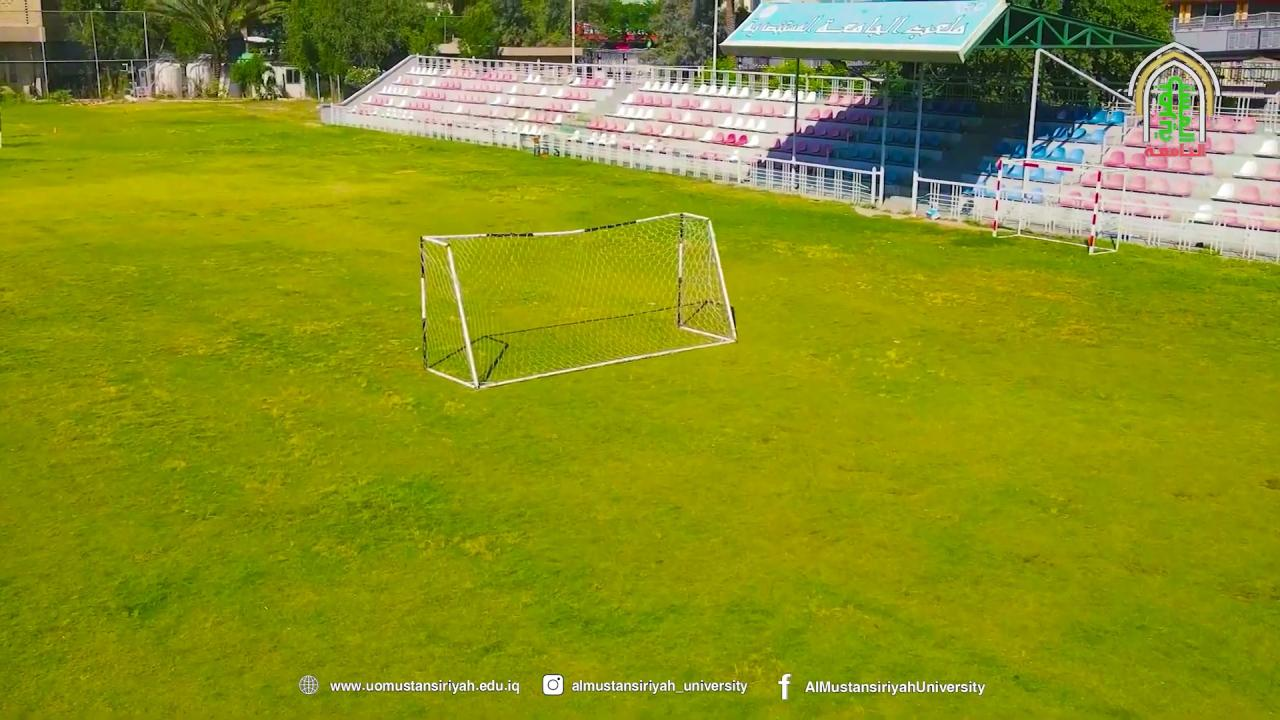tree: (1016, 0, 1176, 107), (125, 0, 287, 97), (280, 0, 429, 103), (451, 0, 501, 58), (229, 50, 273, 98), (343, 64, 381, 90)
